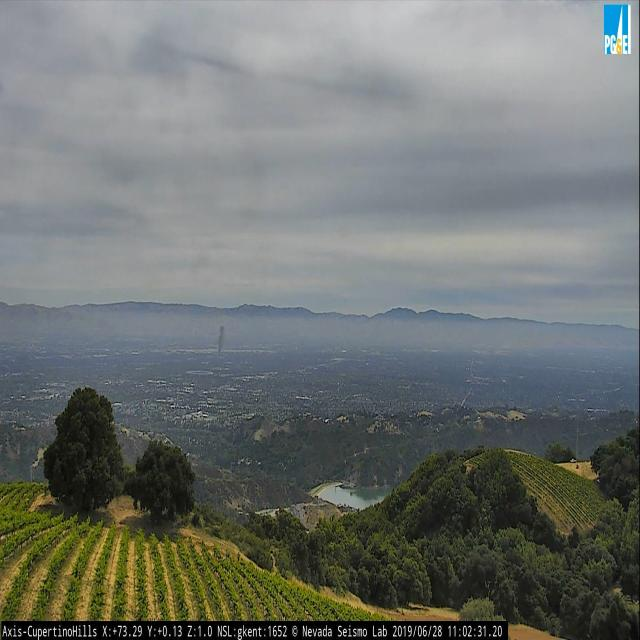smoke: (216, 324, 225, 356)
